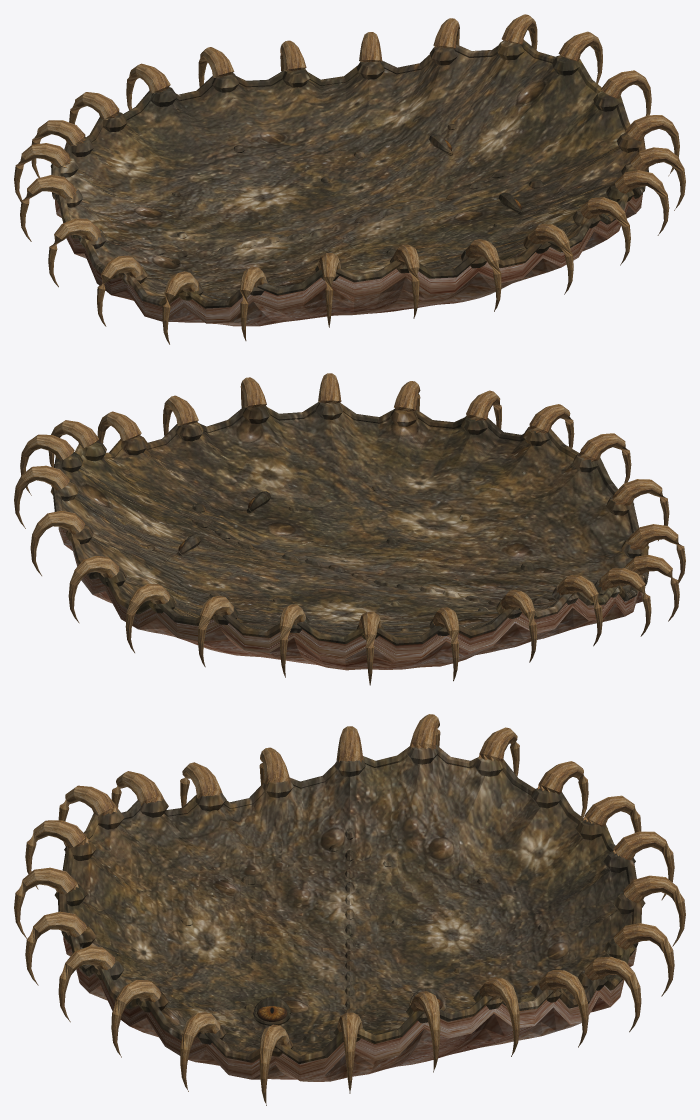
File: cuero.obj
3 renders of one model, top to bottom at view 1: azimuth 30°, elevation 25°; view 2: azimuth 150°, elevation 25°; view 3: azimuth 270°, elevation 25°, orthographic. The views are drawn at different scales.
Visible parts, largest first — view 1: body, rim, ridge, claw1, claw0, claw23, claw10, claw21, claw7, claw11, claw20, claw9 (+16 smaller); view 2: body, rim, claw2, claw3, ridge, claw14, claw15, claw16, claw1, claw4, claw17, claw23 (+16 smaller); view 3: body, rim, claw6, claw18, claw7, claw5, claw17, claw19, claw9, claw20, claw8, claw10 (+17 smaller).
Part boxes in pixels (x1=…): body: x1=55, y1=50, x2=644, y2=326; rim: x1=51, y1=40, x2=648, y2=308; ridge: x1=150, y1=170, x2=508, y2=257; claw1: x1=552, y1=31, x2=602, y2=83; claw0: x1=593, y1=70, x2=651, y2=115; claw23: x1=617, y1=115, x2=679, y2=176; claw10: x1=14, y1=143, x2=78, y2=201; claw21: x1=606, y1=170, x2=669, y2=235; claw7: x1=126, y1=63, x2=176, y2=110; claw11: x1=20, y1=175, x2=82, y2=241; claw20: x1=572, y1=197, x2=630, y2=265; claw9: x1=31, y1=120, x2=93, y2=177; body: x1=58, y1=412, x2=642, y2=670; rim: x1=52, y1=402, x2=648, y2=645; claw2: x1=14, y1=465, x2=78, y2=528; claw3: x1=30, y1=510, x2=93, y2=575; ridge: x1=192, y1=519, x2=548, y2=605; claw14: x1=621, y1=524, x2=685, y2=582; claw15: x1=606, y1=479, x2=669, y2=540; claw16: x1=573, y1=433, x2=631, y2=483; claw1: x1=20, y1=434, x2=83, y2=495; claw4: x1=68, y1=556, x2=126, y2=623; claw17: x1=523, y1=404, x2=574, y2=448; claw23: x1=97, y1=411, x2=147, y2=455; body: x1=63, y1=755, x2=636, y2=1081; rim: x1=57, y1=744, x2=642, y2=1064; claw6: x1=613, y1=875, x2=685, y2=946; claw18: x1=14, y1=867, x2=86, y2=938; claw7: x1=603, y1=831, x2=674, y2=900; claw5: x1=603, y1=923, x2=674, y2=996; claw17: x1=25, y1=820, x2=96, y2=889; claw19: x1=25, y1=911, x2=96, y2=985; claw9: x1=531, y1=761, x2=588, y2=817; claw20: x1=58, y1=946, x2=124, y2=1022; claw8: x1=575, y1=795, x2=641, y2=855; claw10: x1=473, y1=727, x2=519, y2=776.
Size of the model in its own units: 96 by 22.53 by 83.01.
Materials: 1 (1 with a texture image).
